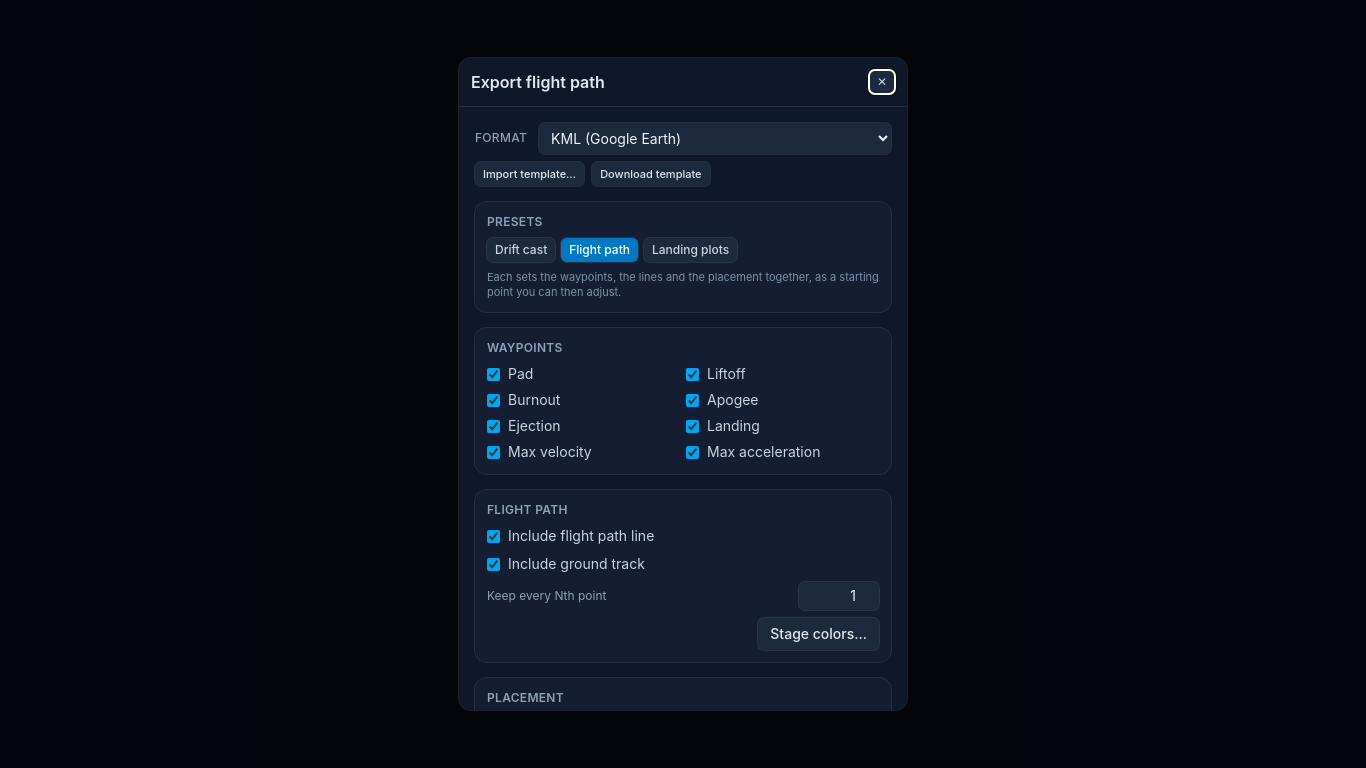
it: flight-path export dialog › every preset is reachable from every other
Click the button "Landing plots" at (691, 250), box [644,238,737,262]
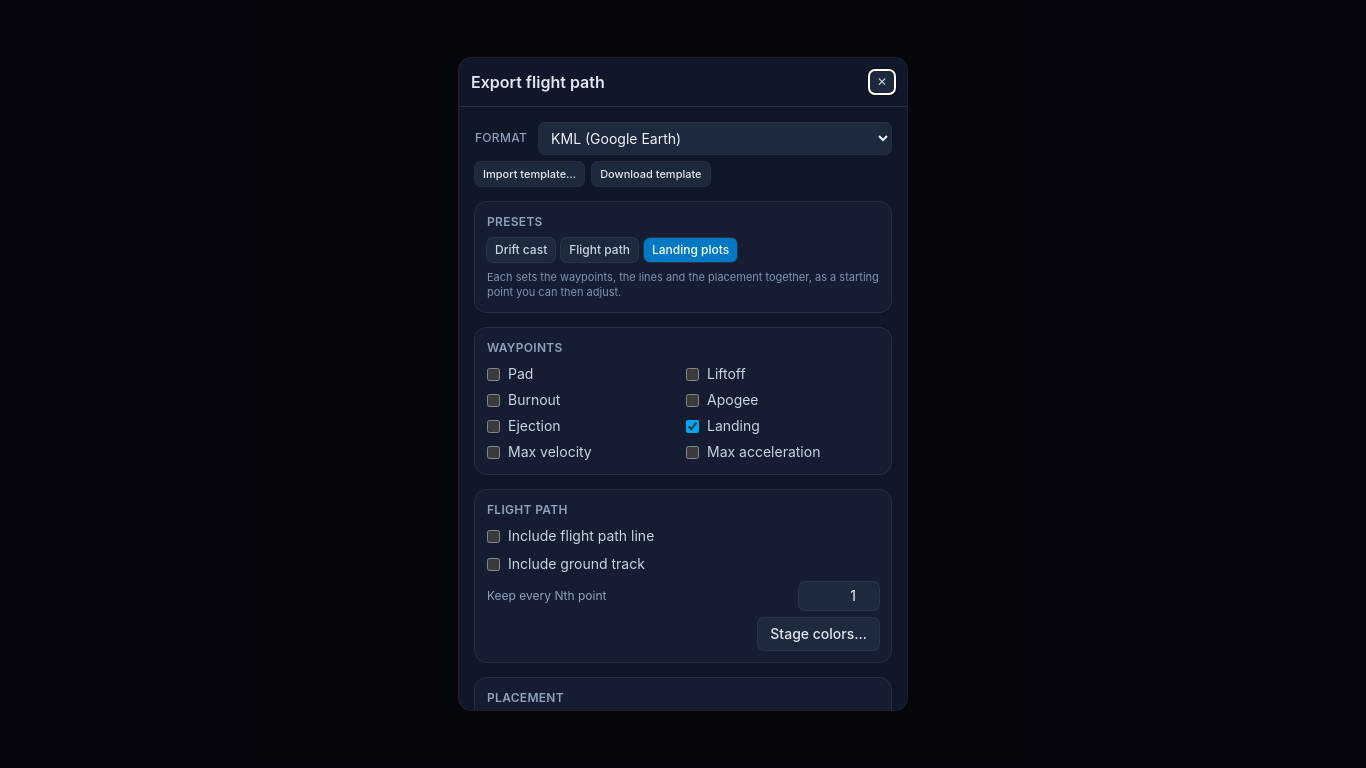
Now the checkbox labelled "Apogee" is not checked, box [686,394,699,407]
Click the button "Drift cast" at (521, 250), box [487,238,555,262]
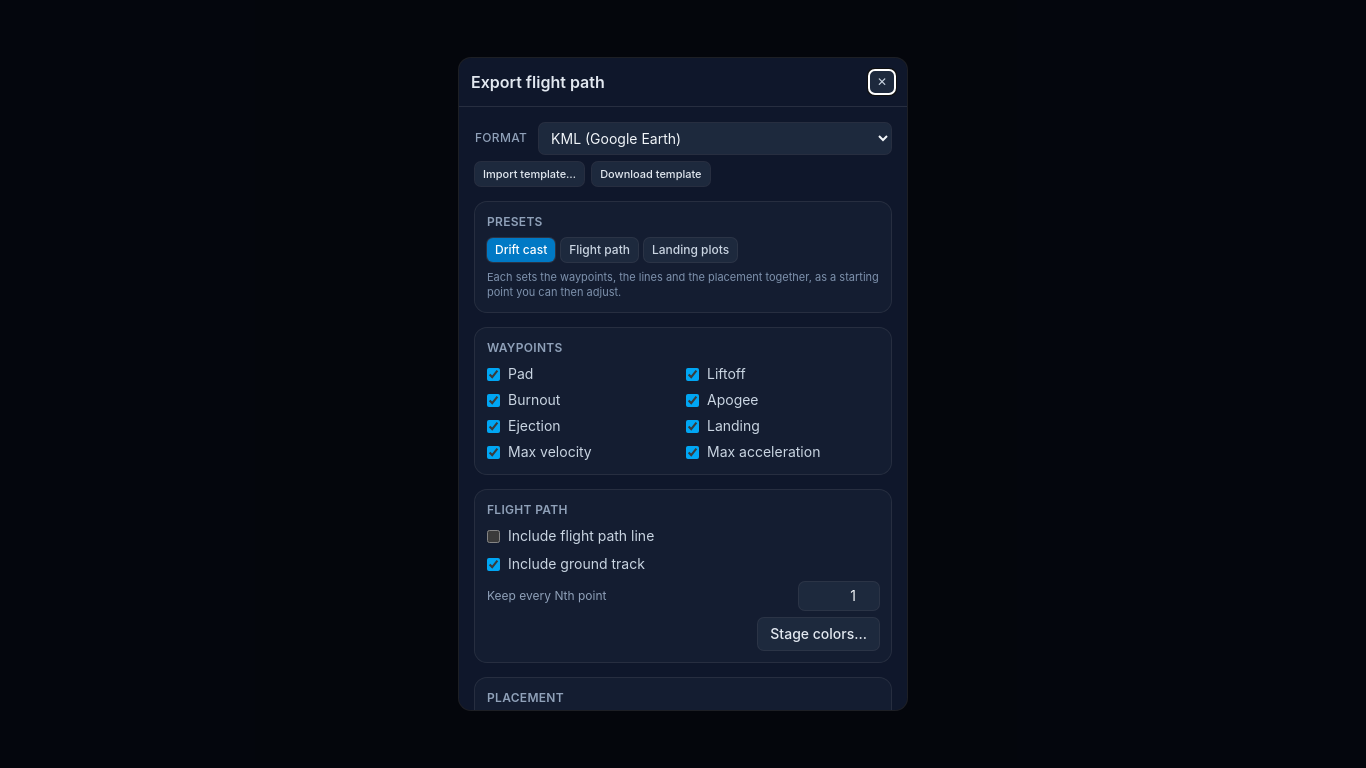
Now the checkbox labelled "Apogee" is checked, box [686,394,699,407]
Now the checkbox labelled "Include ground track" is checked, box [487,558,500,571]
Click the button "Flight path" at (600, 250), box [561,238,638,262]
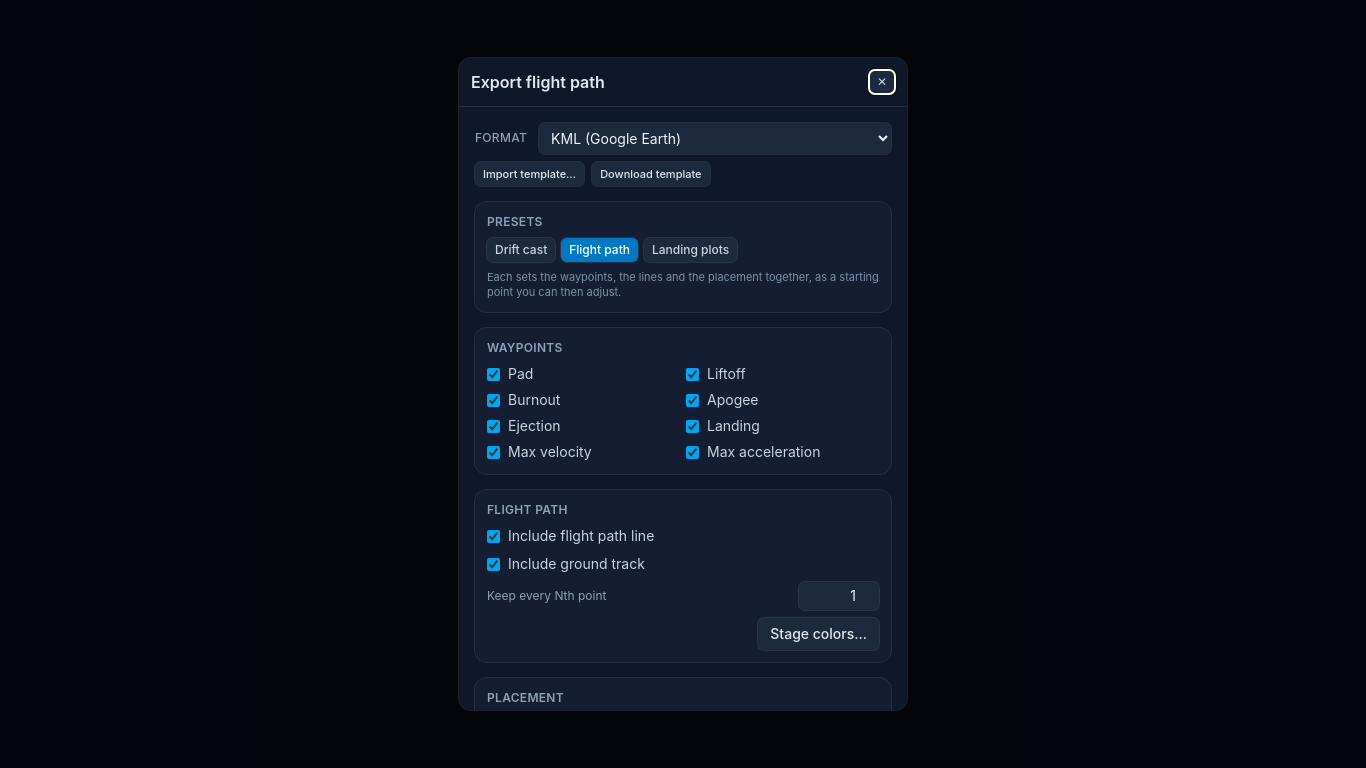
Now the checkbox labelled "Apogee" is checked, box [686,394,699,407]
Now the checkbox labelled "Include flight path line" is checked, box [487,530,500,543]
